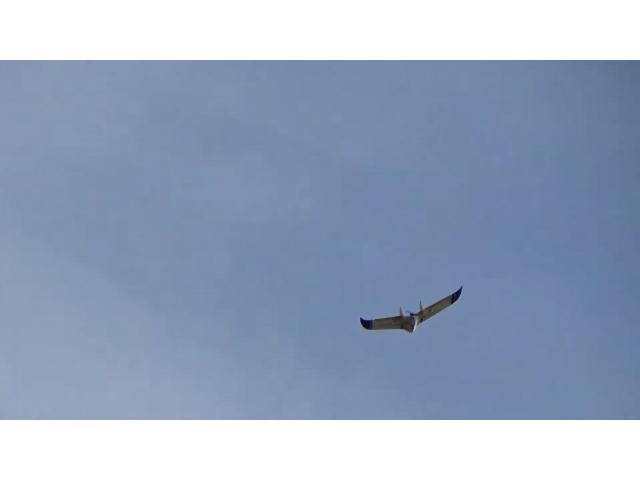Anti-Drone: (360, 284, 464, 334)
